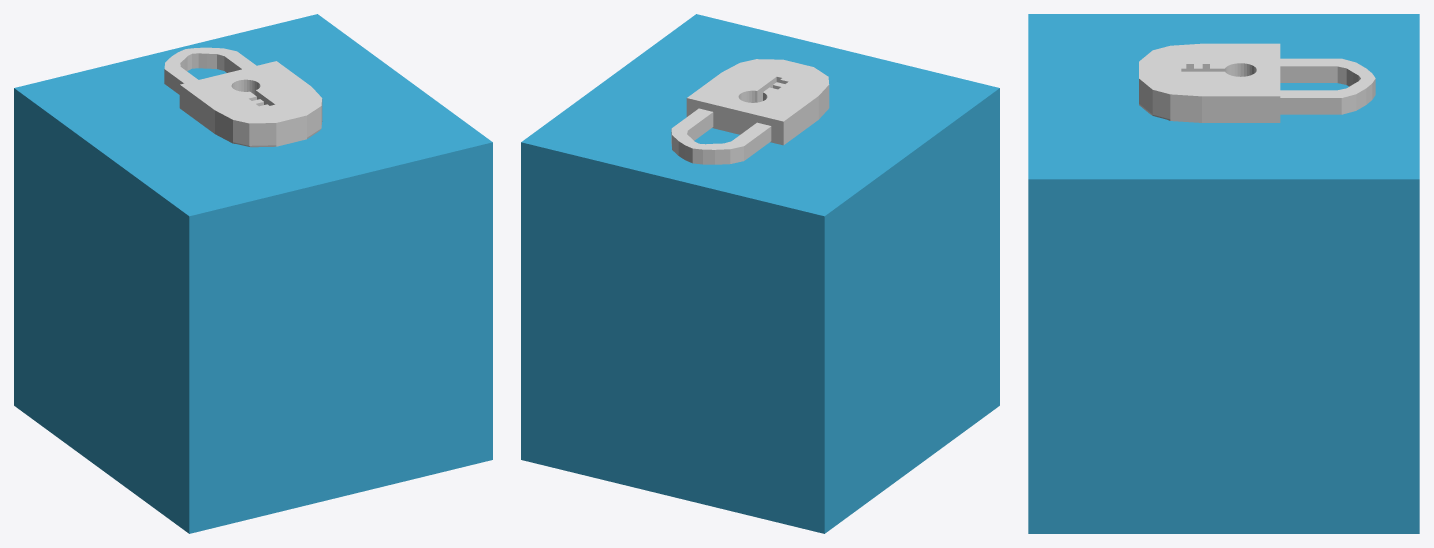
File: door.fbx
The picture shows the model from 3 angles, left to right: view 1: azimuth 30°, elevation 25°; view 2: azimuth 150°, elevation 25°; view 3: azimuth 270°, elevation 25°; orthographic projection. The views are drawn at different scales.
Visible parts, largest first — view 1: Cube.003, Cube.004; view 2: Cube.003, Cube.004; view 3: Cube.003, Cube.004.
Boxes of the visible parts, <box> form: Cube.003: <box>14,14,492,533</box>; Cube.004: <box>164,47,322,147</box>; Cube.003: <box>521,14,999,533</box>; Cube.004: <box>671,59,829,164</box>; Cube.003: <box>1028,14,1419,533</box>; Cube.004: <box>1139,43,1375,122</box>.
Size of the model in its own units: 200 by 215 by 200.
